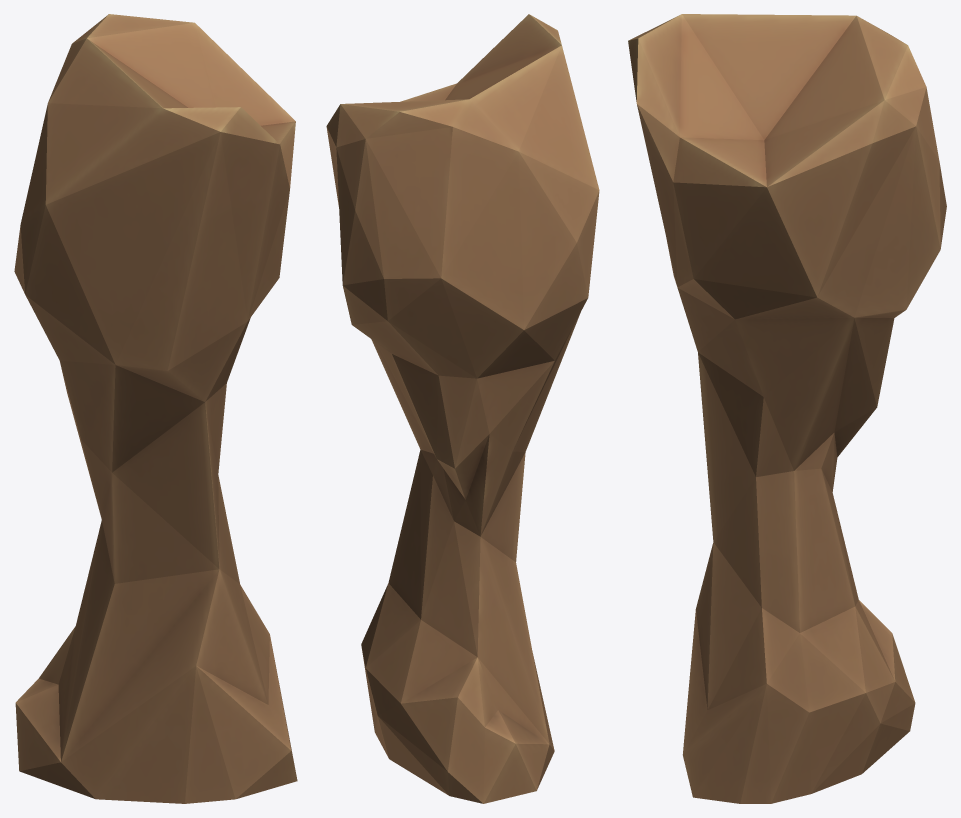
Rendered from Mountain rock_17.fbx.
The picture shows the model from 3 angles, left to right: view 1: azimuth 30°, elevation 25°; view 2: azimuth 150°, elevation 25°; view 3: azimuth 270°, elevation 25°; orthographic projection. The views are drawn at different scales.
Parts seen in each view (by area): view 1: Mountain rock_17; view 2: Mountain rock_17; view 3: Mountain rock_17.
Part boxes in pixels (x1,y1,x2,y2): Mountain rock_17: (14, 14, 297, 803); Mountain rock_17: (326, 14, 599, 803); Mountain rock_17: (628, 14, 946, 803).
Size of the model in its own units: 156 by 412 by 166.
